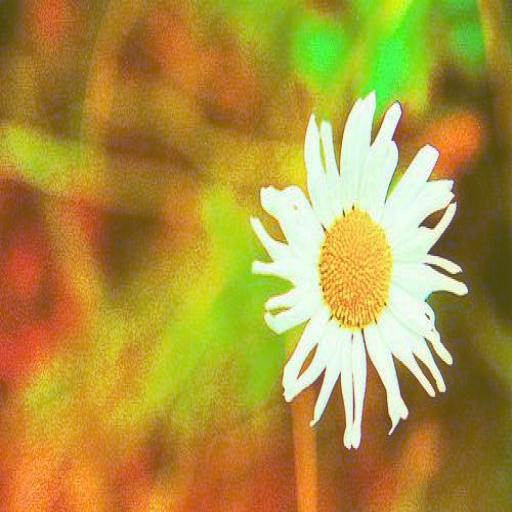daisy: (259, 104, 452, 432)
